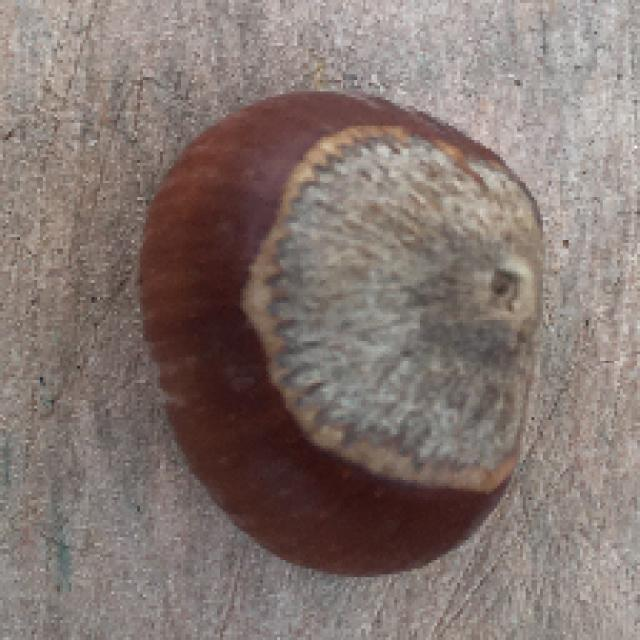qualityHazelnut: (136, 77, 560, 578)
